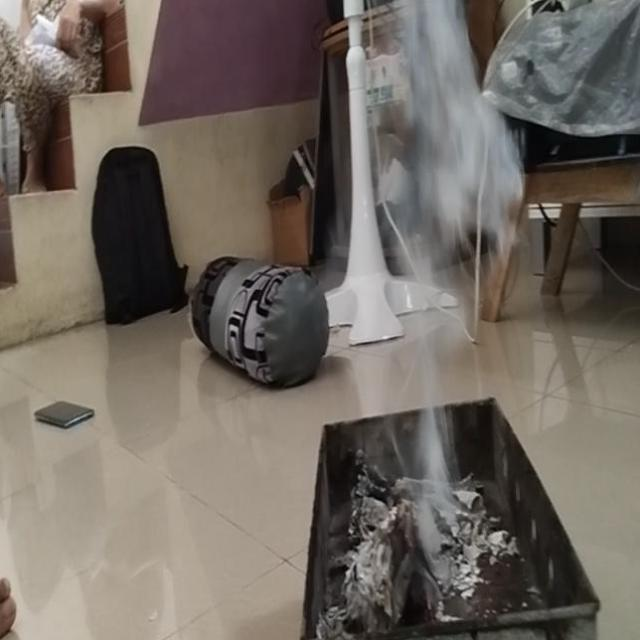fire: (390, 0, 520, 473)
